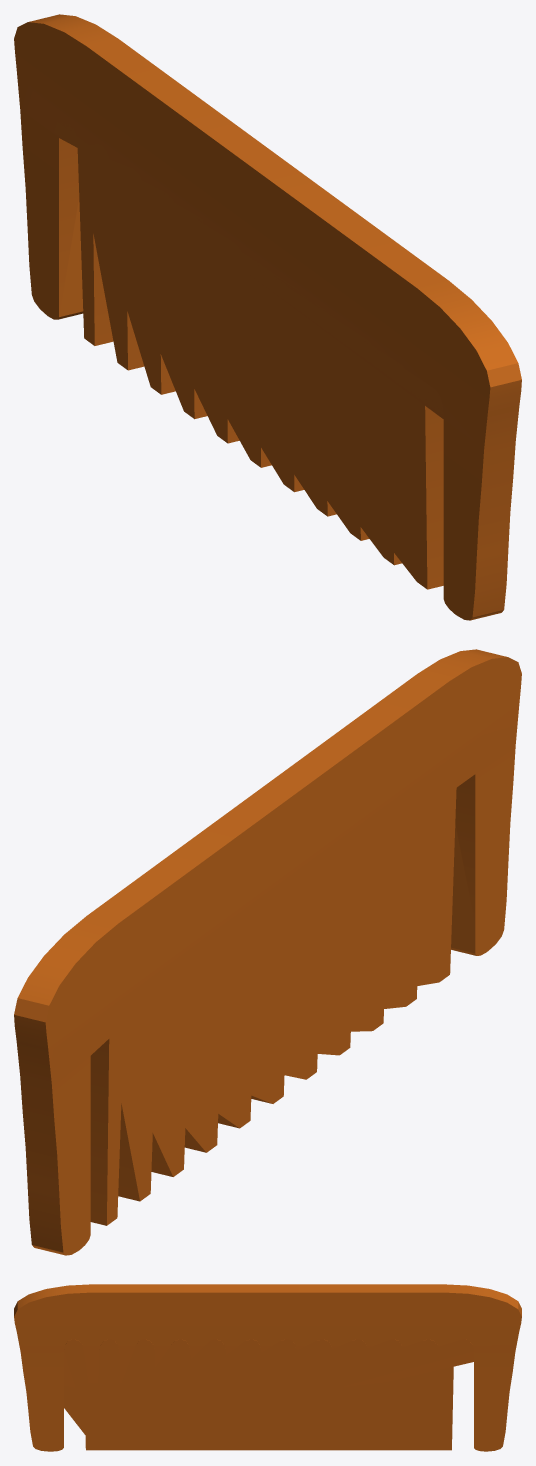
File: petne.fbx
3 renders of one model, top to bottom at view 1: azimuth 30°, elevation 25°; view 2: azimuth 150°, elevation 25°; view 3: azimuth 270°, elevation 25°, orthographic. The views are drawn at different scales.
Parts seen in each view (by area): view 1: Cube; view 2: Cube; view 3: Cube.
Boxes of the visible parts, box(x1,y1,x2,y2) form: Cube: box(14, 14, 521, 620); Cube: box(14, 649, 521, 1255); Cube: box(14, 1284, 521, 1451).
Size of the model in its own units: 23.11 by 208 by 603.
